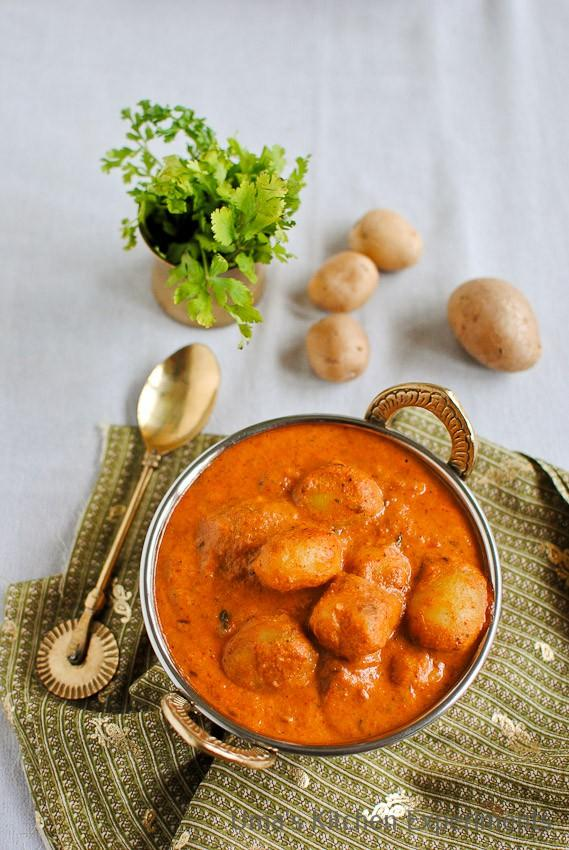DumAloo: (152, 422, 494, 740)
